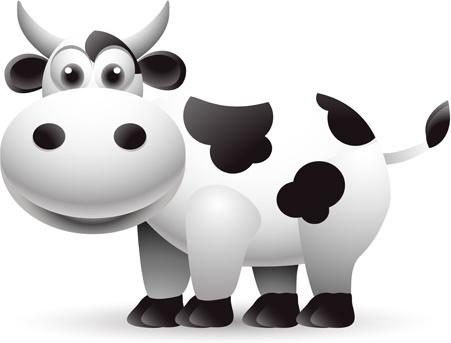cow: (0, 0, 450, 329)
